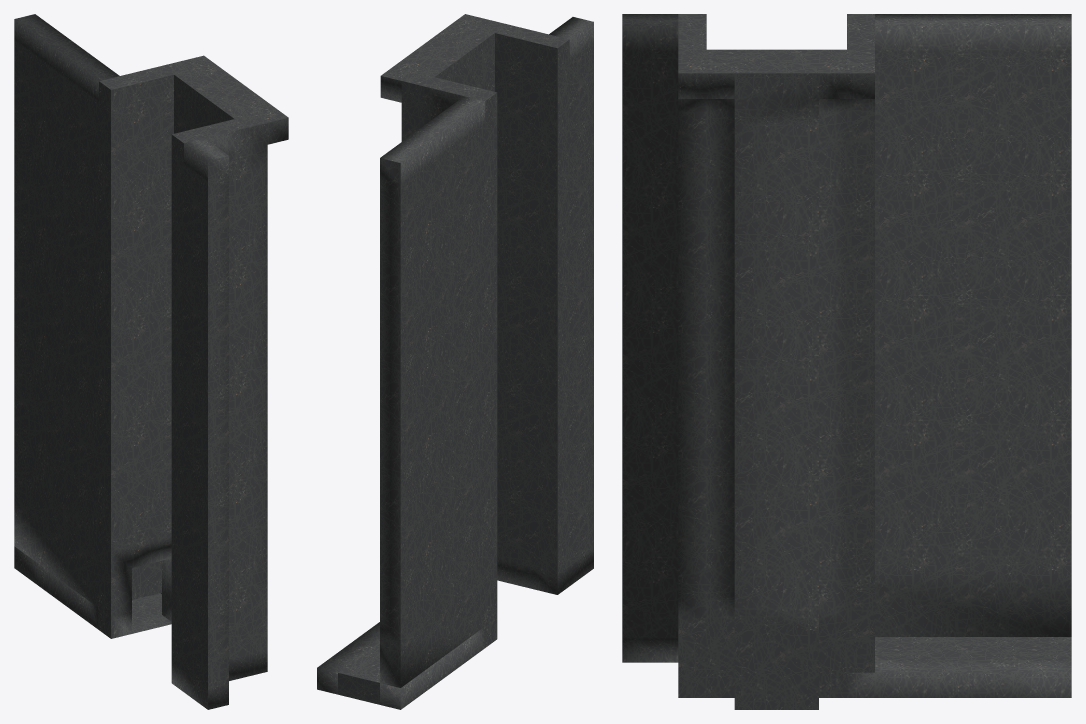
Rendered from Back_Wall_3.obj.
3 views of the same model, side by side, from view 1: azimuth 30°, elevation 25°; view 2: azimuth 150°, elevation 25°; view 3: azimuth 270°, elevation 25° (orthographic). The views are drawn at different scales.
Parts seen in each view (by area): view 1: b1.001; view 2: b1.001; view 3: b1.001.
Boxes of the visible parts, box(x1,y1,x2,y2) form: b1.001: box(14, 14, 288, 709); b1.001: box(317, 14, 593, 709); b1.001: box(622, 14, 1071, 709).
Size of the model in its own units: 2.5 by 12.5 by 8.
